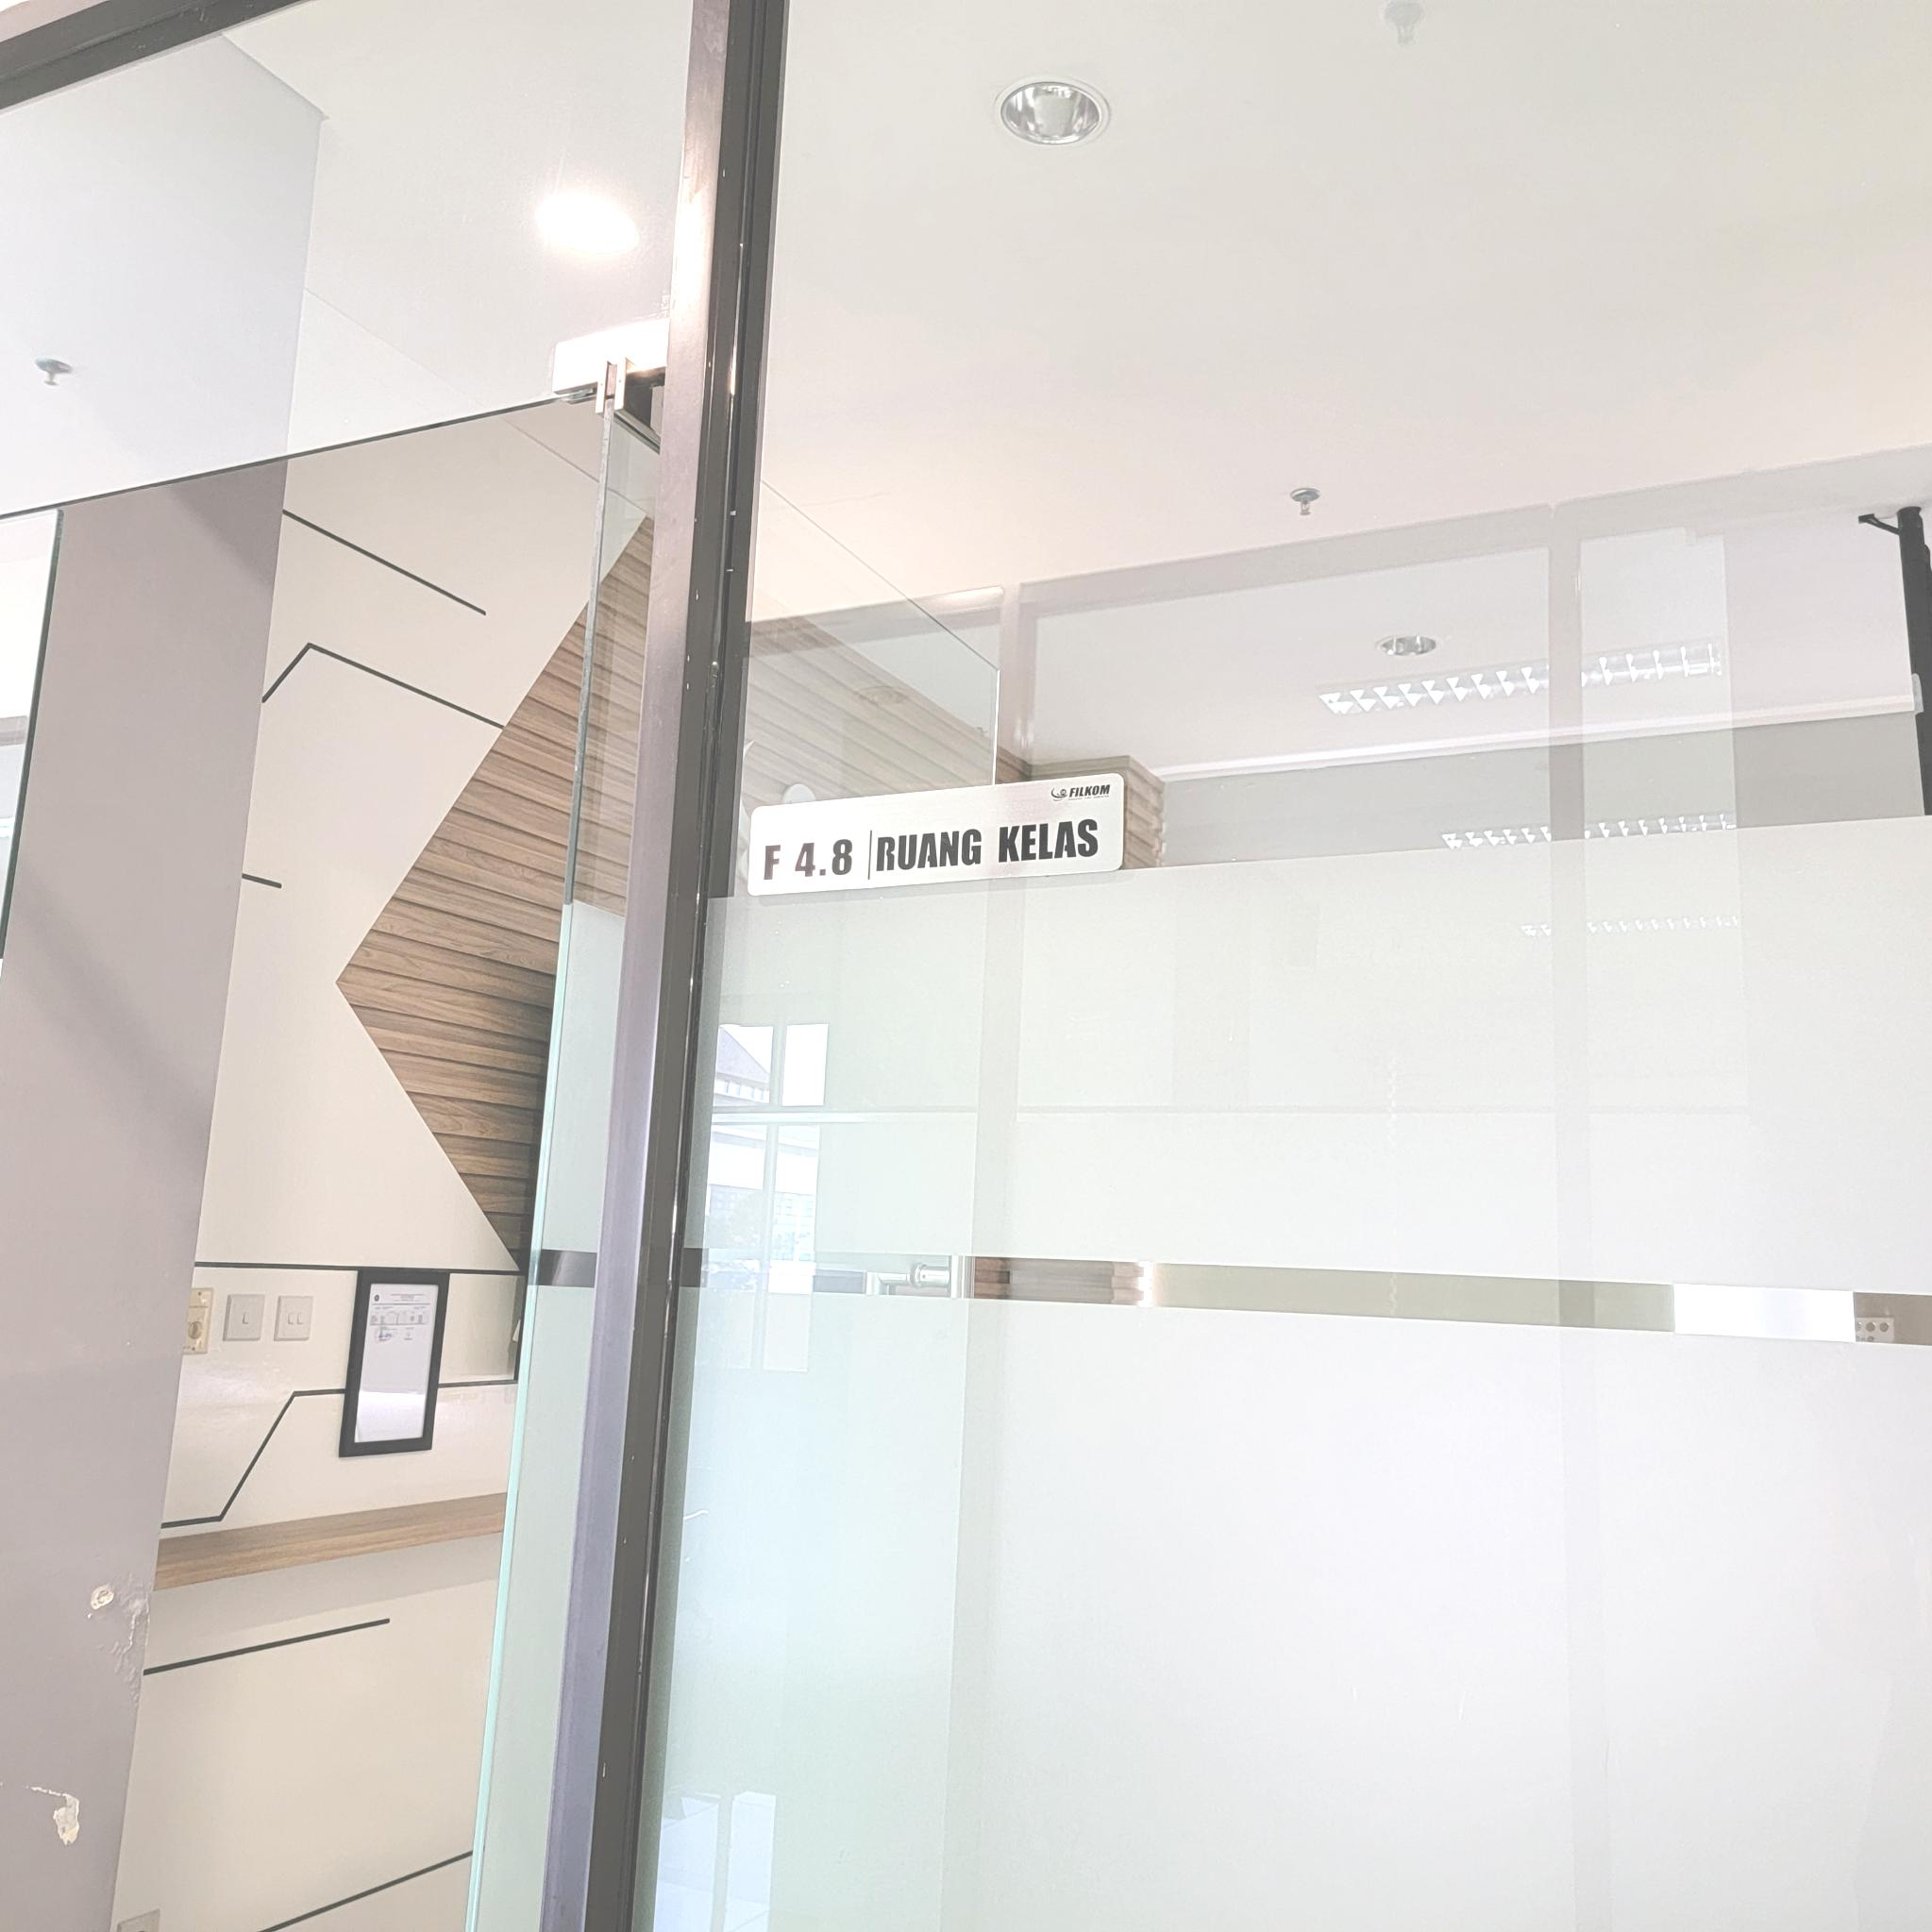plate: (748, 770, 1127, 899)
